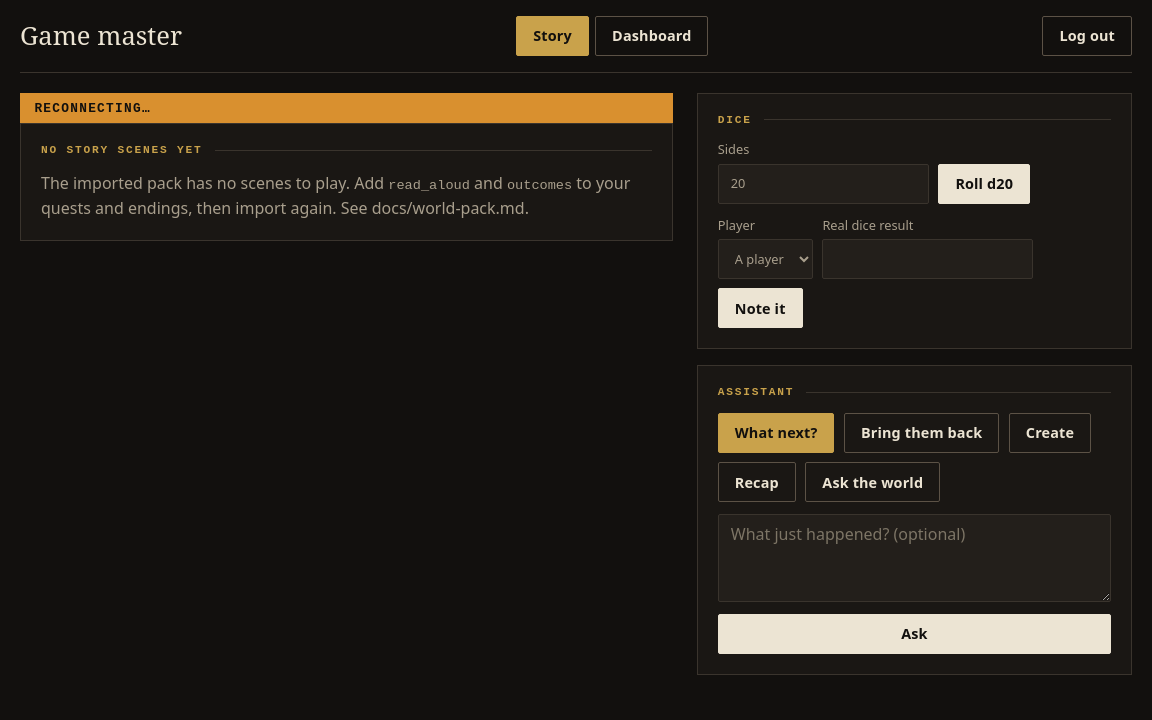
Scenario: MasterApp › logs out and returns to the password form
What coordinates should you click on to do the following:
click the button with test id "logout"
I would click on:
 (1087, 36)
Its box is [1042,16,1132,56].
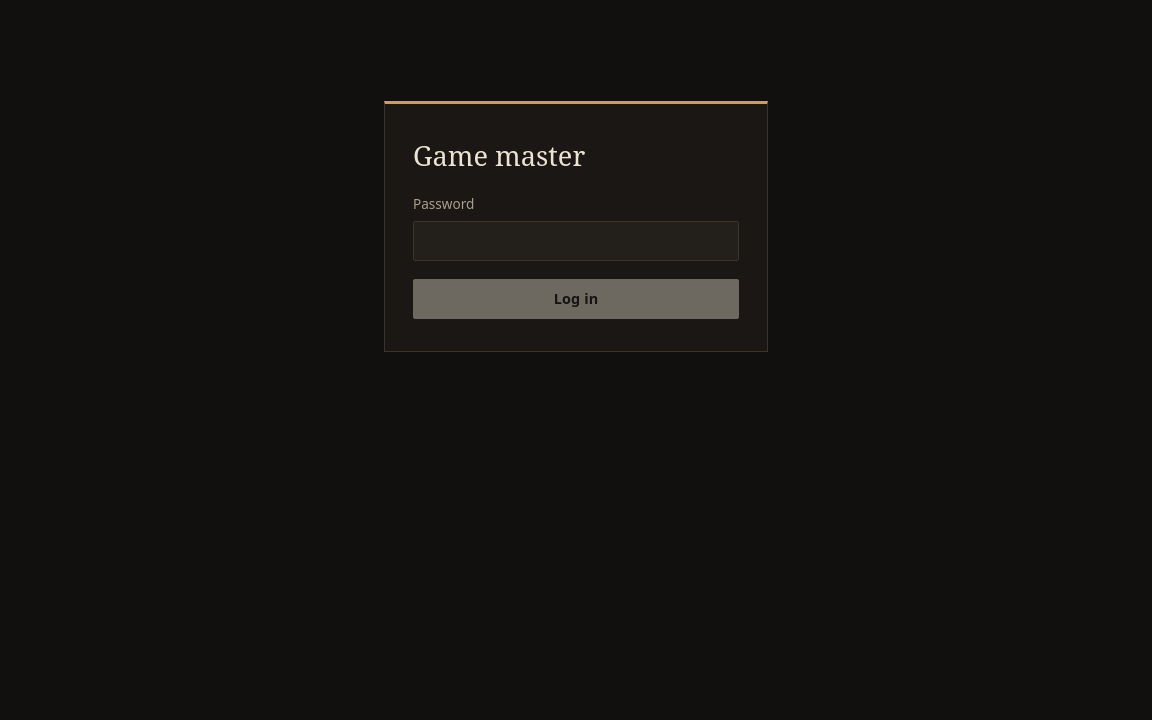
expect the form with test id "login-form" is shown: met, box [384,101,768,352]
